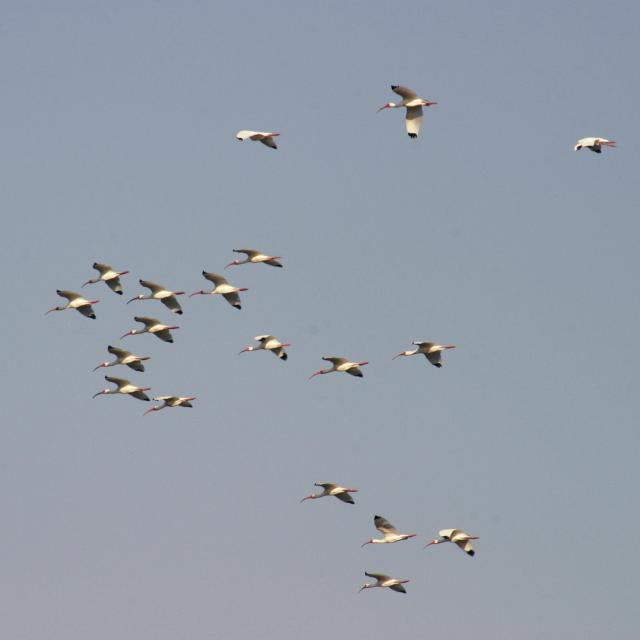bird: (375, 91, 442, 143), (192, 269, 249, 308), (394, 342, 459, 372), (132, 278, 184, 314), (366, 513, 418, 546), (237, 334, 292, 364), (426, 530, 480, 560), (48, 287, 100, 317), (124, 316, 181, 342), (312, 356, 370, 381), (95, 344, 148, 371), (299, 482, 358, 506), (85, 261, 128, 293), (146, 394, 198, 418), (360, 572, 410, 596), (229, 246, 283, 268), (238, 131, 283, 151), (573, 136, 618, 155), (99, 374, 144, 392)
